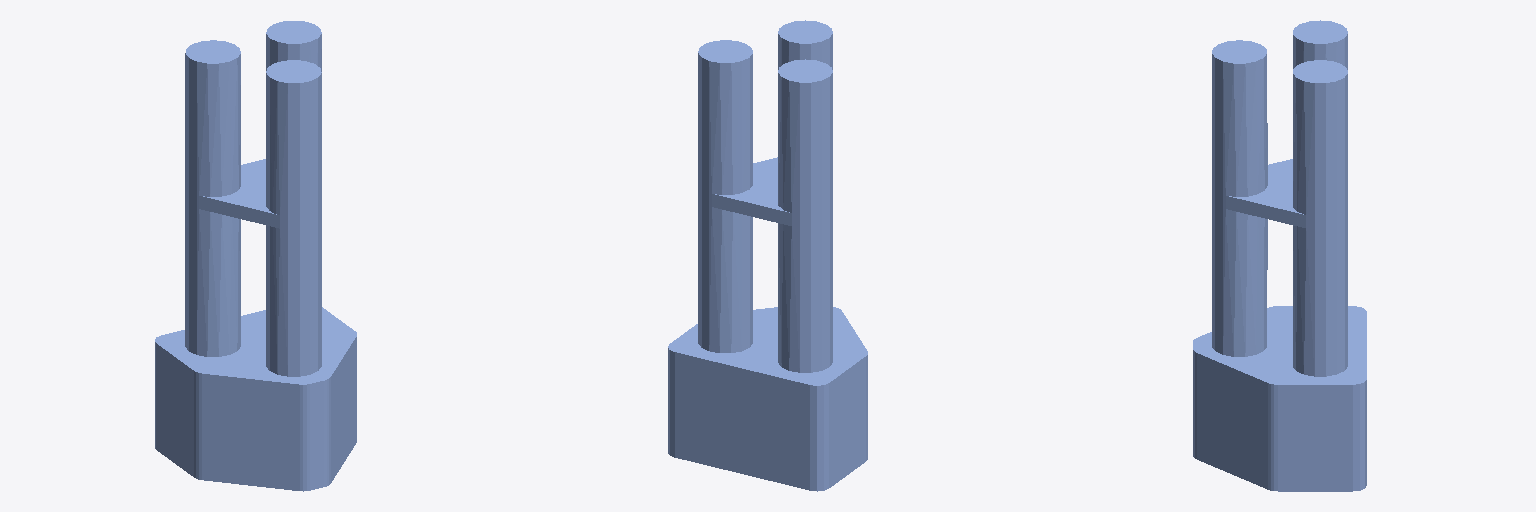
robot.urdf — Large_Long_3Prong_JeansBlue:
<?xml version="1.0"?>
<robot name="Large_Long_3Prong_JeansBlue">
    <link name="Large_Long_3Prong_JeansBlue">
        <visual>
            <origin xyz="0 0 -0.01" rpy="0 0 0" />
            <!-- <origin xyz="0 0 0.1" rpy="0 1.57 0" /> -->
            <geometry>
                <mesh filename="../mesh/factory_insertion/Large_Long_3Prong_JeansBlue.obj" scale="0.001 0.001 0.001"/>
            </geometry>
            <material name="JeansBlue">
              <color rgba="0.65 0.75 0.95 0"/>
            </material>
        </visual>
        <collision>
            <geometry>
                <mesh filename="../mesh/factory_insertion/Large_Long_3Prong_JeansBlue.obj" scale="0.001 0.001 0.001"/>
            </geometry>
            <sdf resolution="512"/>
        </collision>
    </link>
</robot>

--- What the picture shows (computed from the rendered views, not written in the file) ---
The picture shows the robot from 3 angles, left to right: view 1: azimuth 30°, elevation 25°; view 2: azimuth 150°, elevation 25°; view 3: azimuth 270°, elevation 25°; orthographic projection.
Model Large_Long_3Prong_JeansBlue with 1 links and 0 joints (none), rooted at Large_Long_3Prong_JeansBlue, posed every joint at zero.
Links seen in each view (by area): view 1: Large_Long_3Prong_JeansBlue; view 2: Large_Long_3Prong_JeansBlue; view 3: Large_Long_3Prong_JeansBlue.
Link boxes in pixels (x1,y1,x2,y2): Large_Long_3Prong_JeansBlue: (155,21,356,491); Large_Long_3Prong_JeansBlue: (668,20,867,491); Large_Long_3Prong_JeansBlue: (1193,20,1366,491).
Size in the robot's own frame: 0.0634 by 0.0591 by 0.15 metres.
Meshes: 1 distinct files referenced, 1 mesh visuals loaded (1 OBJ).
